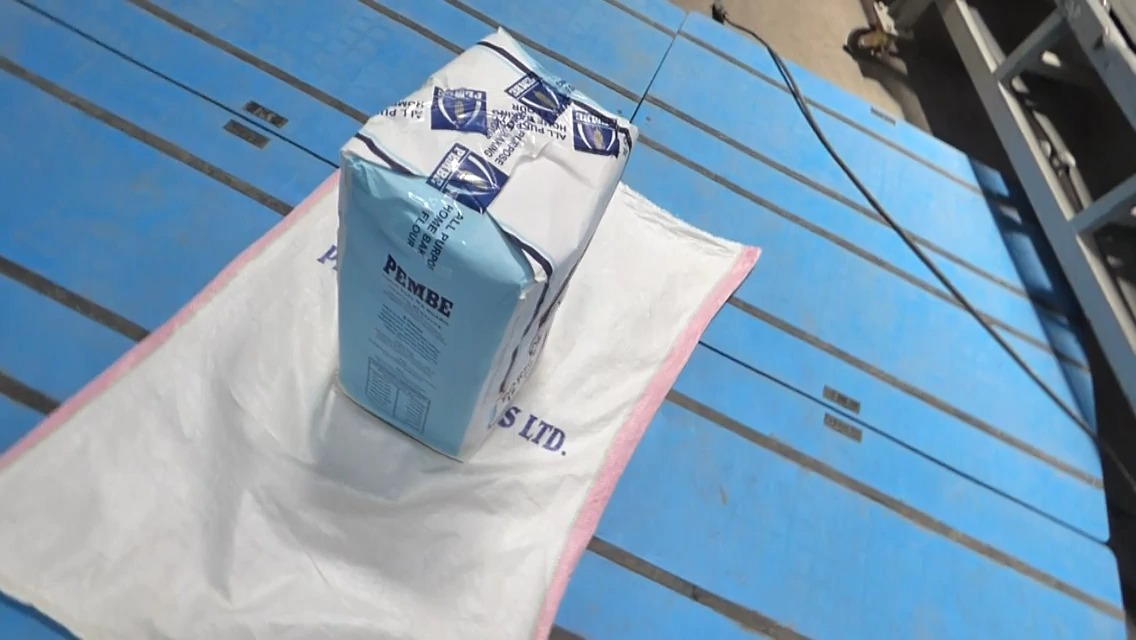wheat_flour_blue_label: (335, 29, 635, 458)
